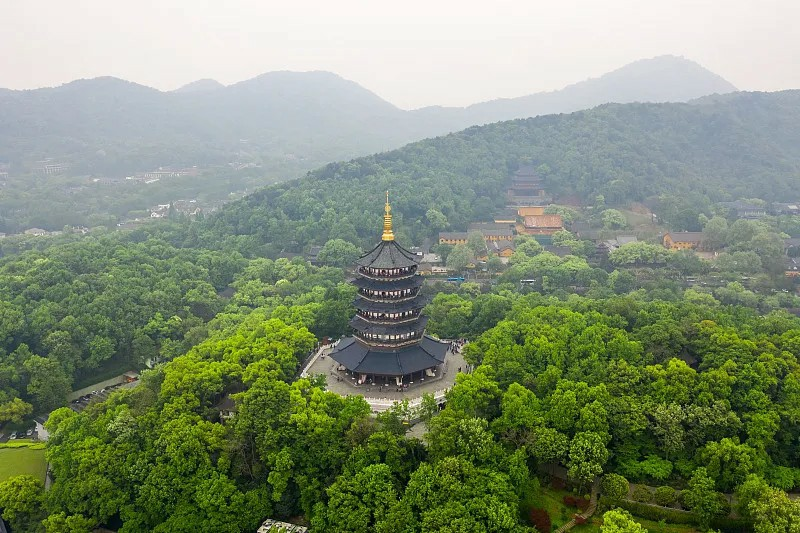Leifeng: (327, 190, 449, 388)
